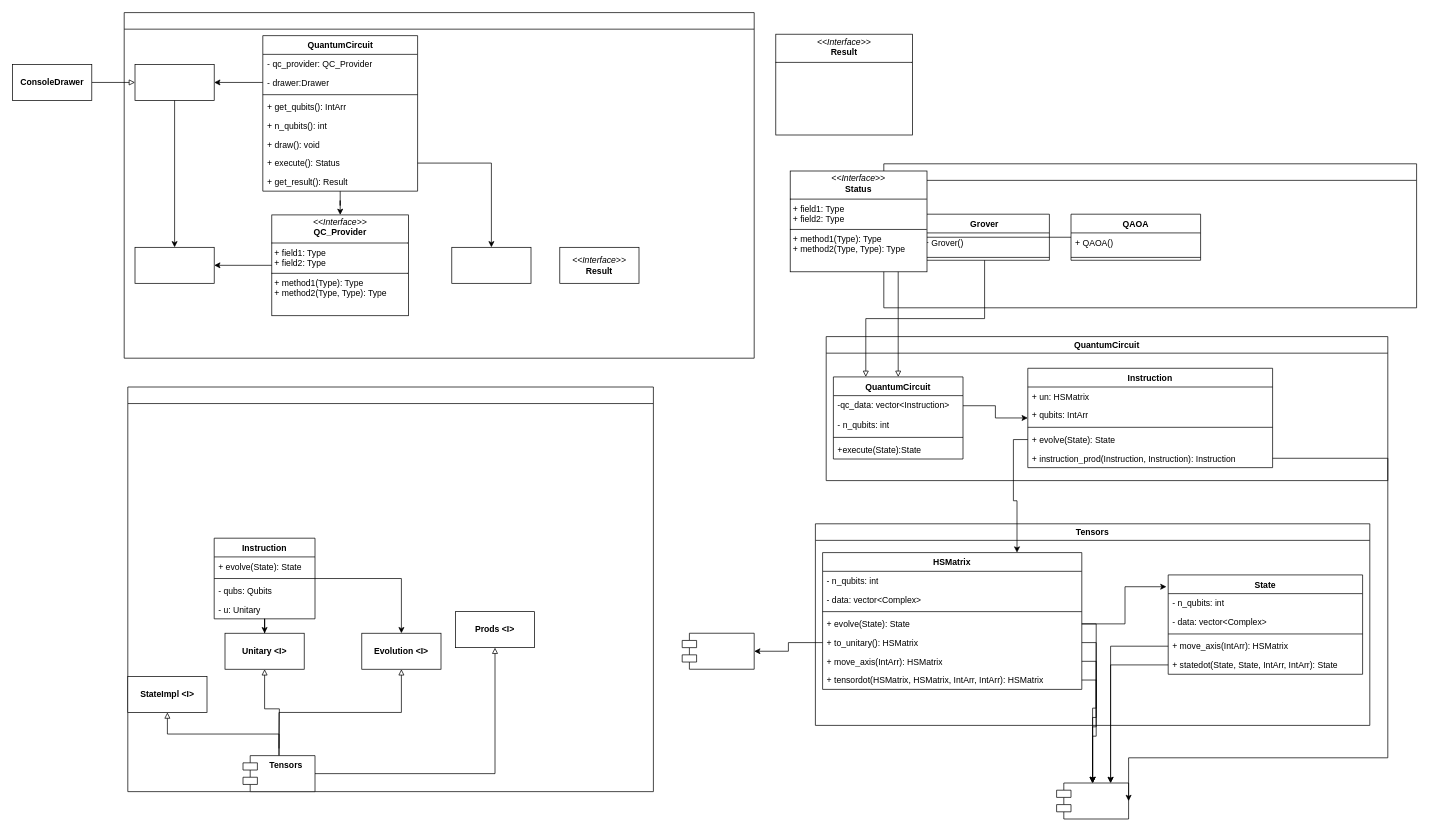
The diagram is 1429 pixels wide and 832 high, and some of its shapes have lost their labels. Here are the shapes that lost their labels. From the top down, the box of each, then its label:
(134, 64, 214, 100): <<Interface>> Drawer
(123, 12, 754, 358): Quantum Simulator
(883, 163, 1417, 308): Algorithms
(134, 247, 214, 283): QC_Presentations <DS>
(451, 247, 531, 283): <<Interface>> Status
(127, 386, 653, 792): Gate Circuit
(681, 633, 754, 669): Eigen
(1056, 782, 1129, 819): bin_utils
